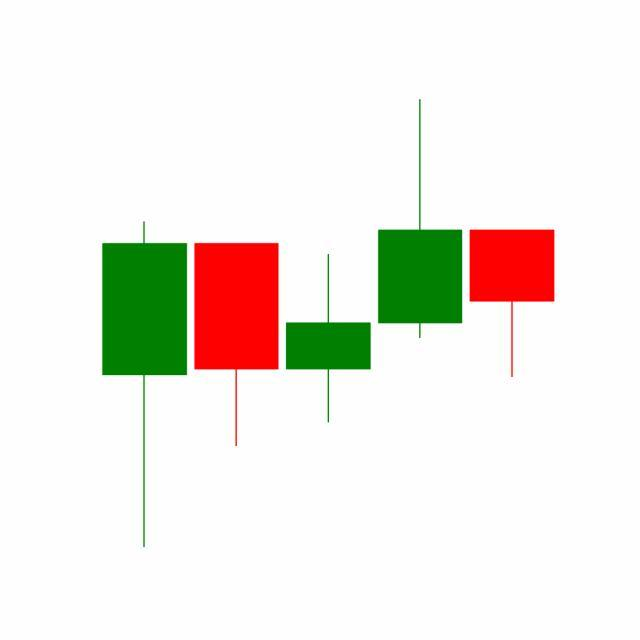Hammer: (466, 228, 559, 380)
